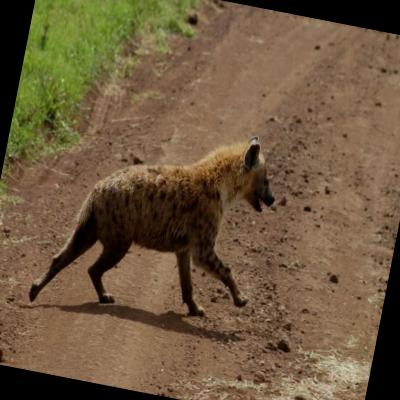hyenas: (0, 88, 319, 391)
